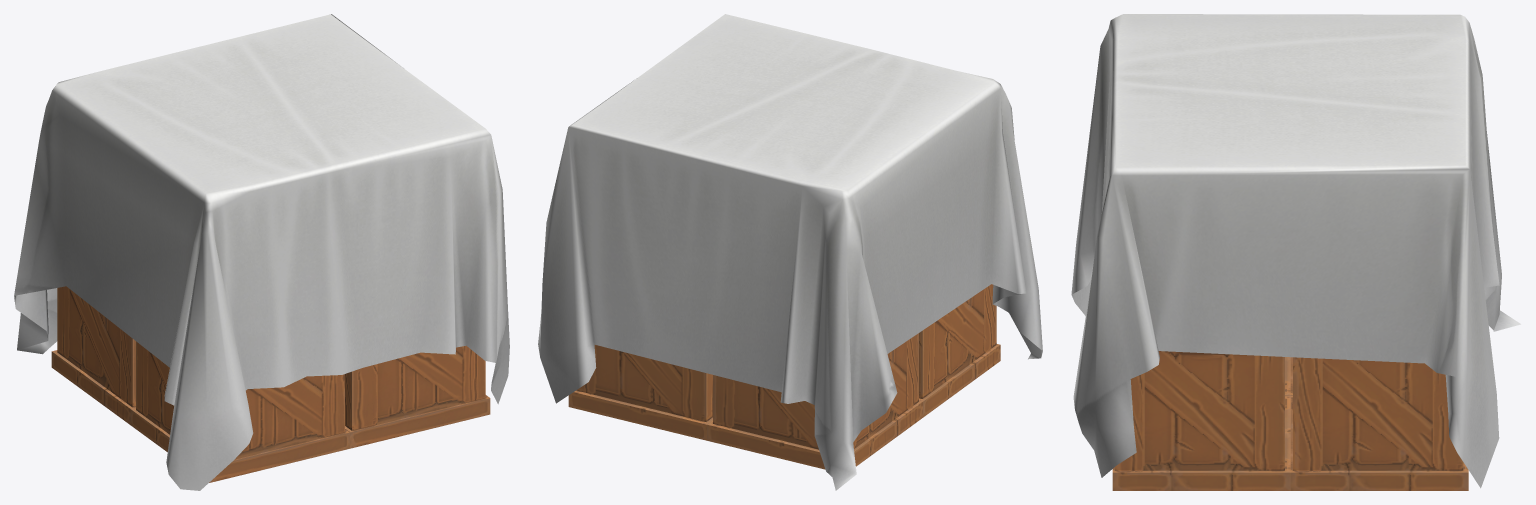
Rendered from Pfb_Box_GRP__3.fbx.
3 renders of one model, left to right at view 1: azimuth 30°, elevation 25°; view 2: azimuth 150°, elevation 25°; view 3: azimuth 270°, elevation 25°, orthographic. The views are drawn at different scales.
Parts seen in each view (by area): view 1: MAT_Canvas_01_White, Mat_WoodBox_01_1; view 2: MAT_Canvas_01_White, Mat_WoodBox_01_1; view 3: MAT_Canvas_01_White, Mat_WoodBox_01_1.
Boxes of the visible parts, x1,y1,x2,y2 form: MAT_Canvas_01_White: (14, 14, 509, 490); Mat_WoodBox_01_1: (51, 286, 490, 482); MAT_Canvas_01_White: (538, 14, 1042, 490); Mat_WoodBox_01_1: (568, 284, 1000, 469); MAT_Canvas_01_White: (1071, 14, 1520, 488); Mat_WoodBox_01_1: (1112, 351, 1468, 490).
Size of the model in its own units: 2.02 by 1.53 by 1.92.
2 materials, 2 textured.
